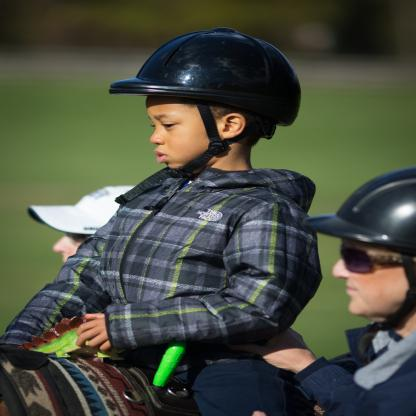Helmet: (116, 30, 298, 174), (298, 165, 416, 332)
